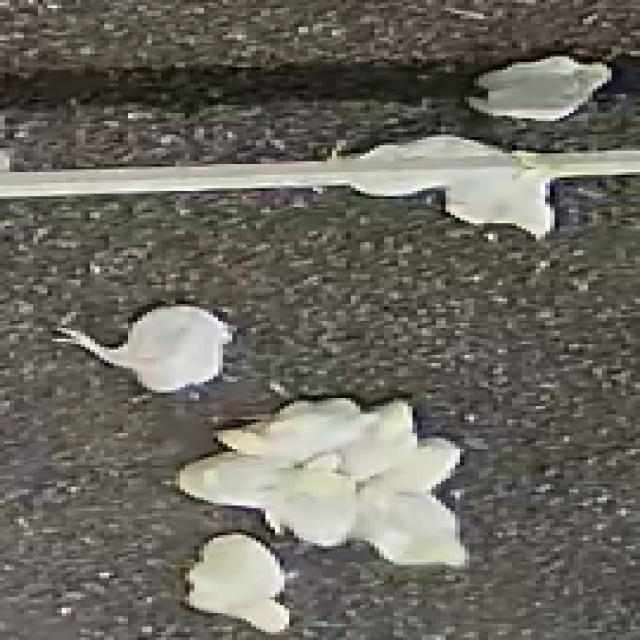broiler: (57, 304, 228, 390), (185, 532, 284, 632), (218, 398, 365, 465), (261, 454, 356, 546), (469, 56, 607, 118), (356, 492, 465, 565), (360, 438, 455, 514), (175, 452, 294, 508), (446, 175, 550, 234), (341, 401, 412, 479)
pipe: (0, 151, 635, 196)
